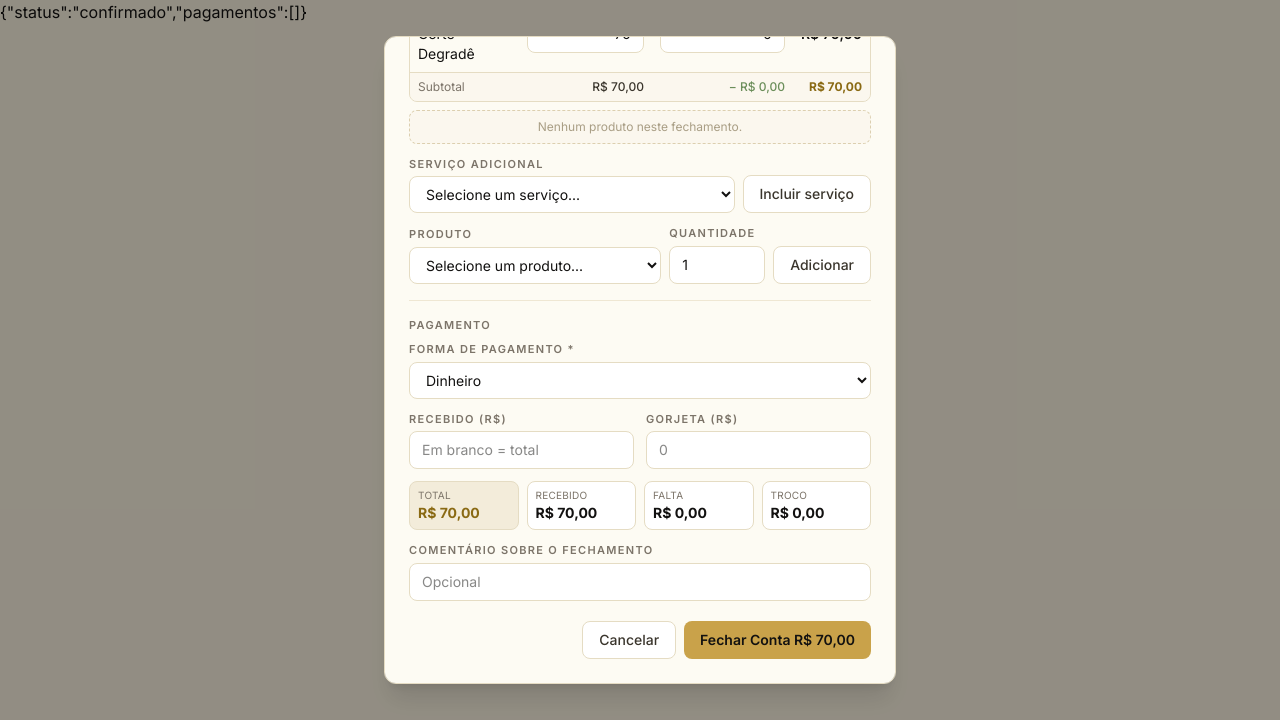
Test: PagamentoModal › impede pagamento duplicado do mesmo atendimento
(page scrolled)
Click the button "Fechar Conta R$ 70,00".
click(778, 640)  # box [684, 621, 871, 659]
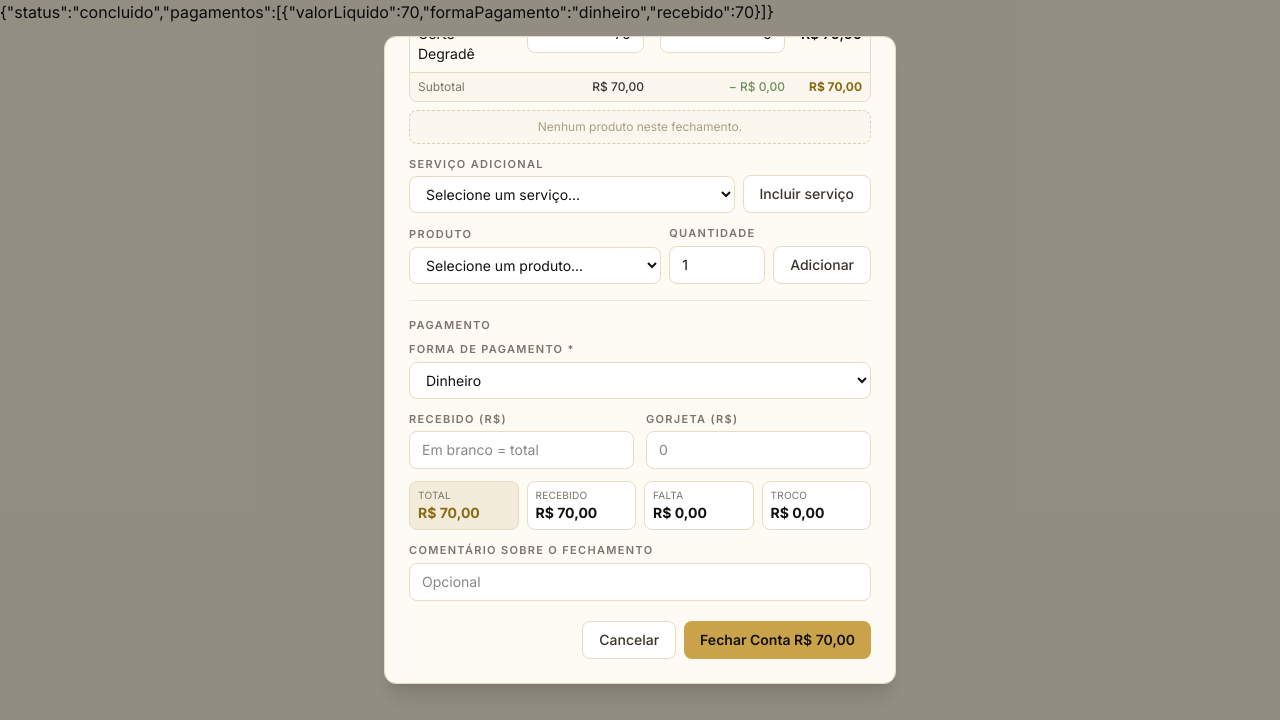
Click the button "Fechar Conta R$ 70,00".
click(778, 640)  # box [684, 621, 871, 659]
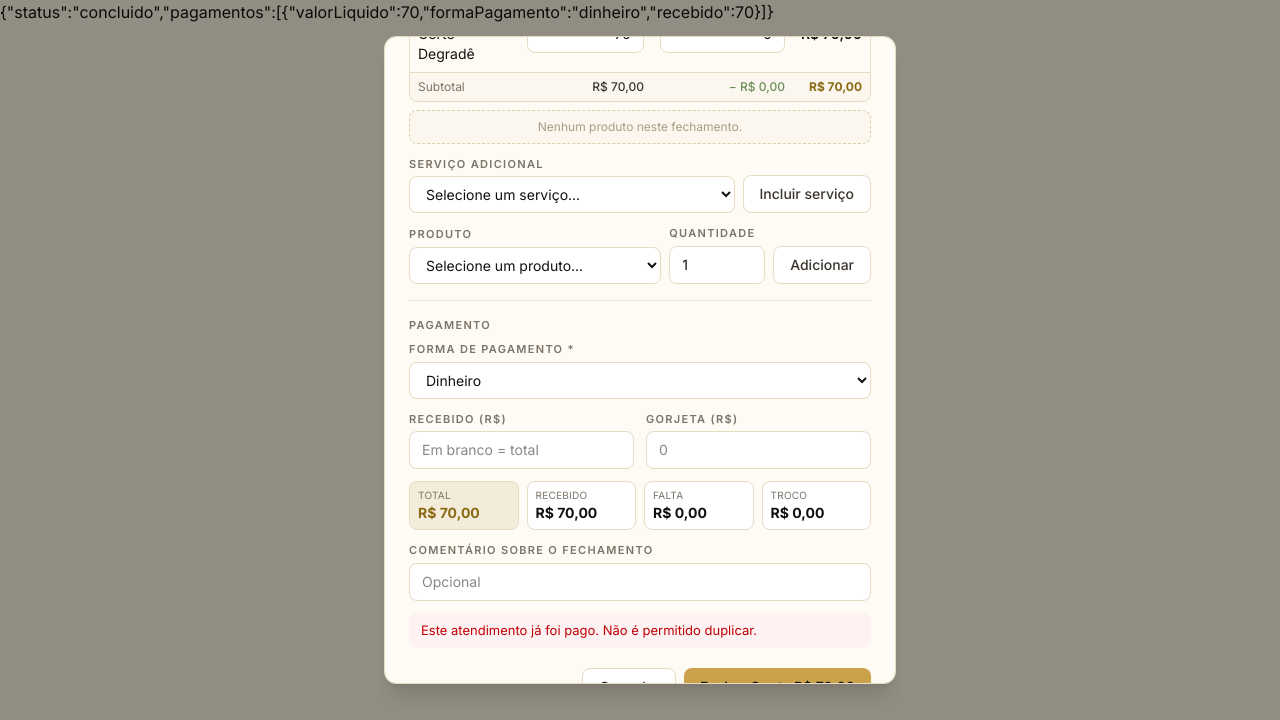
Check: the text "Este atendimento já foi pago. Não é permitido duplicar." is shown, box [409, 613, 871, 648]
